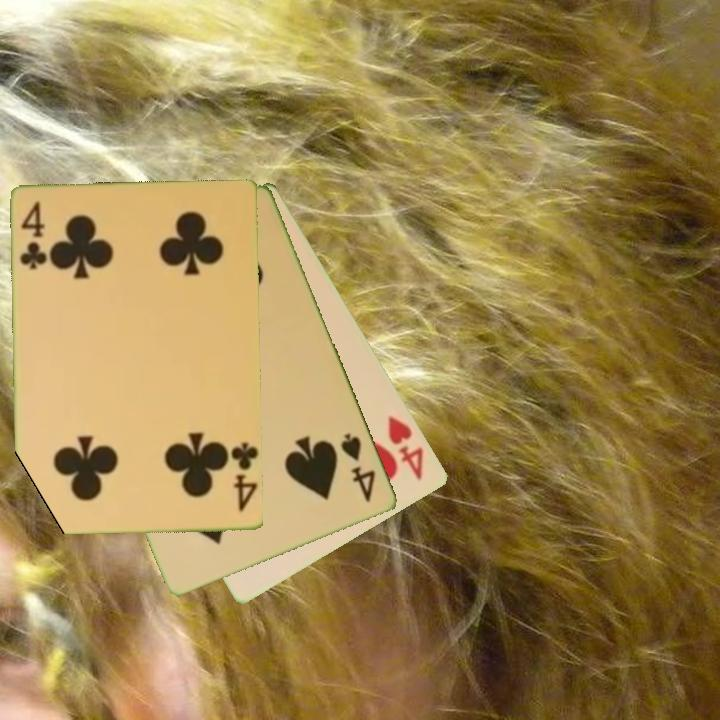4c: (228, 439, 260, 515), (17, 198, 49, 272)
4h: (384, 412, 427, 483)
4s: (338, 430, 379, 506)
